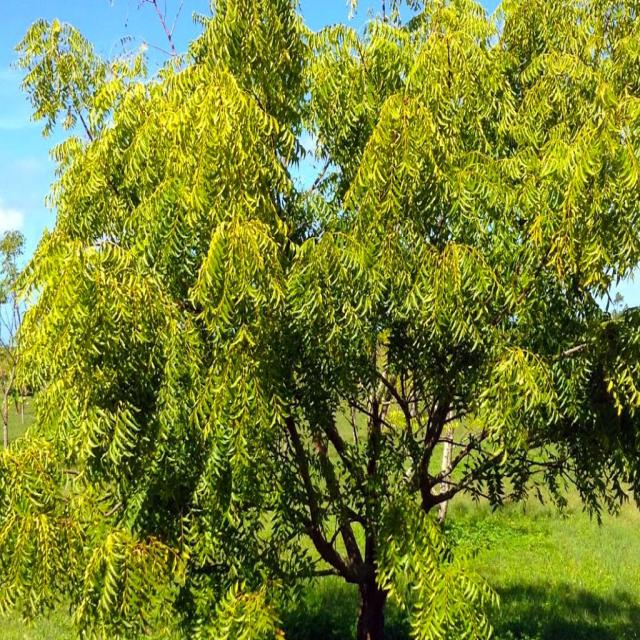Medicinal-Neem: (295, 0, 640, 510), (13, 21, 319, 577)
